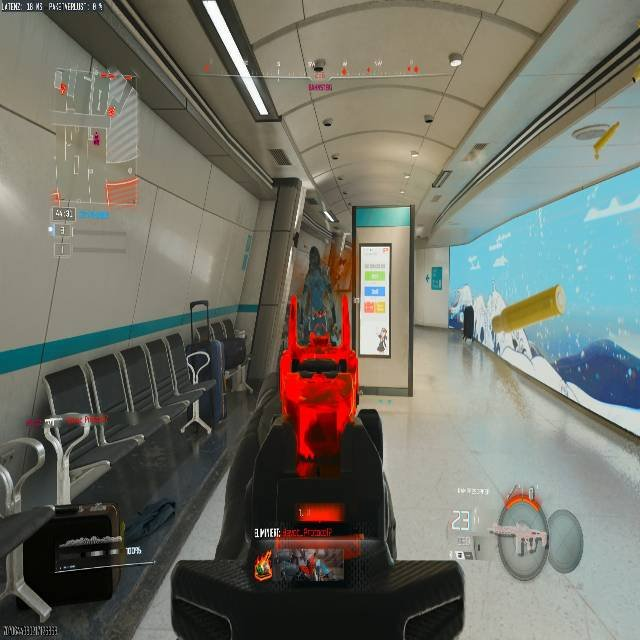player: (376, 326, 387, 352)
